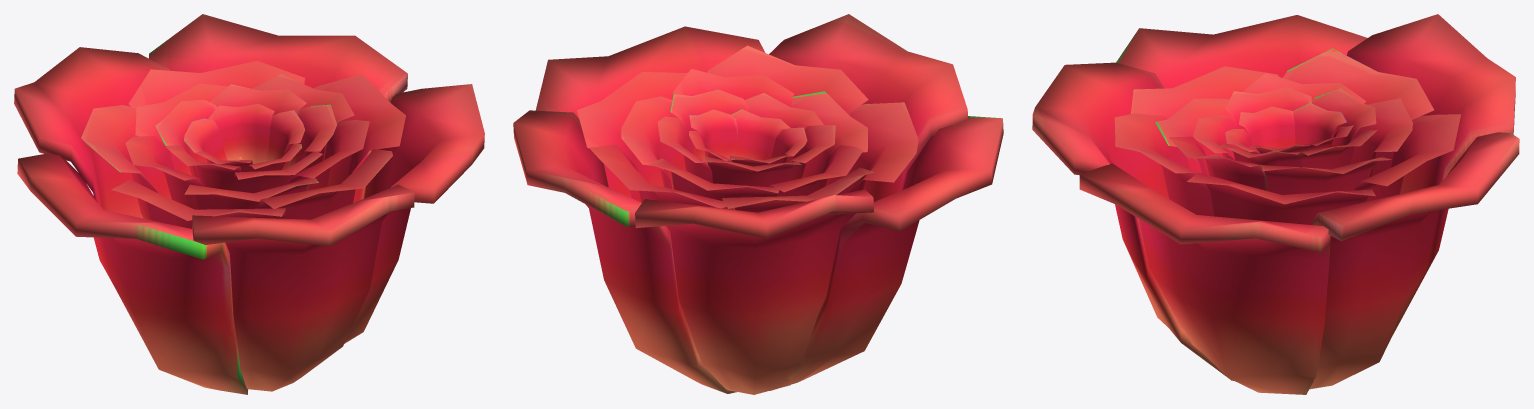
Rendered from rosal_02.fbx.
3 renders of one model, left to right at view 1: azimuth 30°, elevation 25°; view 2: azimuth 150°, elevation 25°; view 3: azimuth 270°, elevation 25°, orthographic. The views are drawn at different scales.
Parts seen in each view (by area): view 1: pCylinder3.004; view 2: pCylinder3.004; view 3: pCylinder3.004.
Boxes of the visible parts, box(x1,y1,x2,y2) form: pCylinder3.004: box(14, 14, 484, 394); pCylinder3.004: box(513, 14, 1003, 394); pCylinder3.004: box(1032, 14, 1519, 394).
Size of the model in its own units: 26.04 by 16.65 by 25.11.
